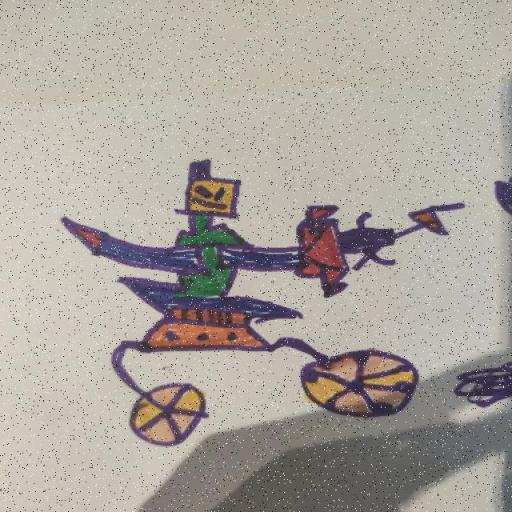person: (64, 160, 463, 445), (456, 362, 511, 407)
